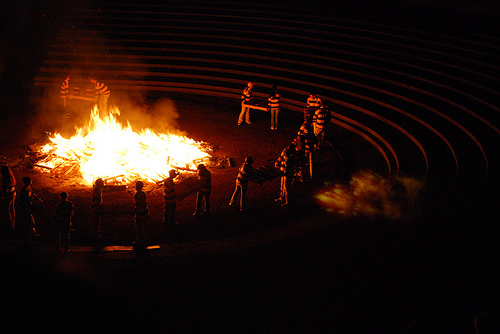fire: (44, 106, 217, 188)
